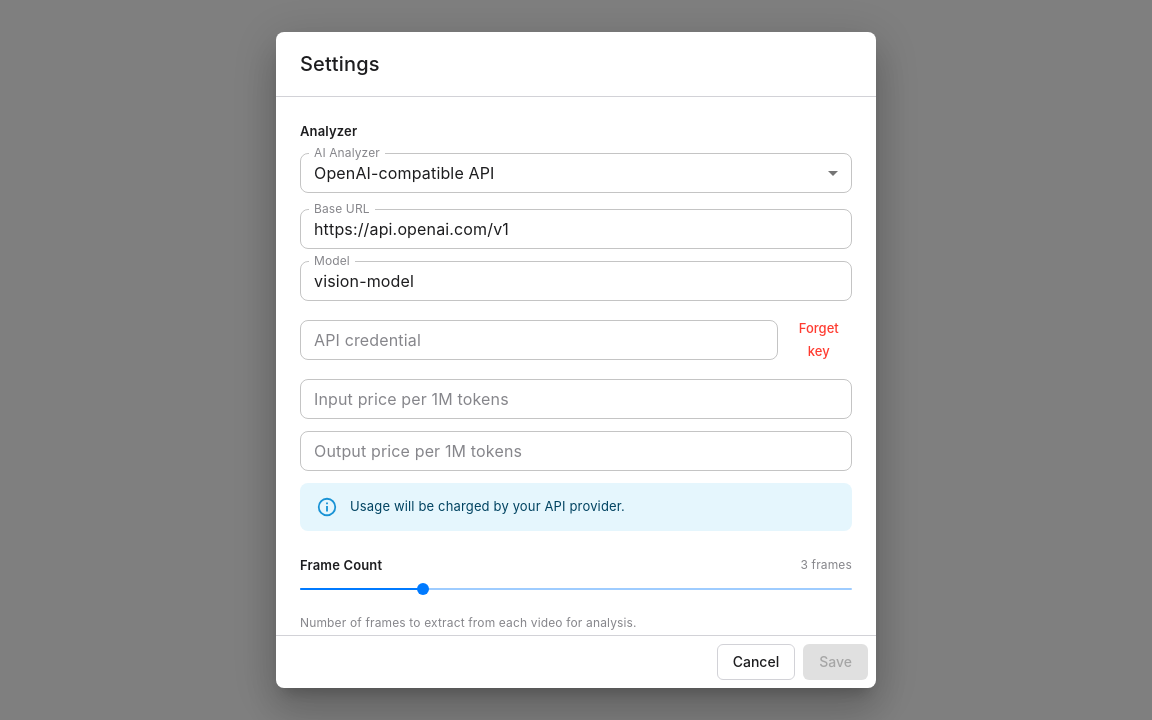
Test: settings modal › keeps the modal open on a partial forget so the retained keychain is readable
Click the button with test id "forget-credential-button".
click(819, 340)  # box [786,313,852,367]
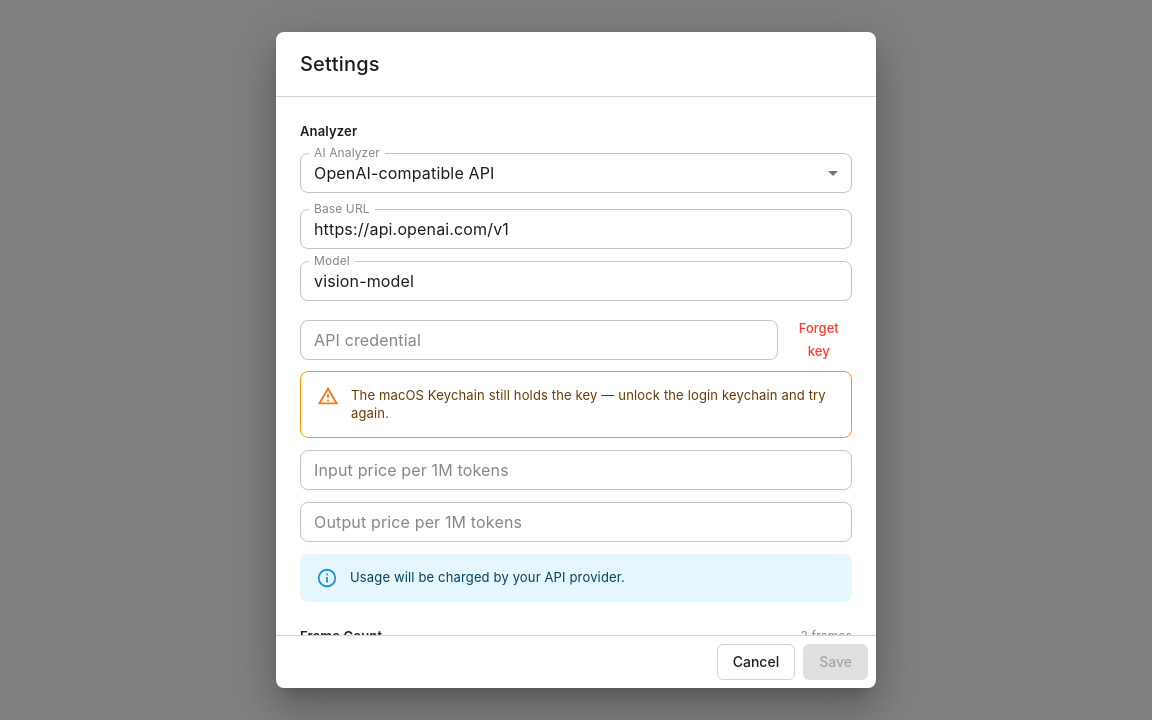
Result: the message with test id "forget-credential-result" shows "The macOS Keychain still holds the key — unlock the login keychain and try again." at [351,387,826,422]
